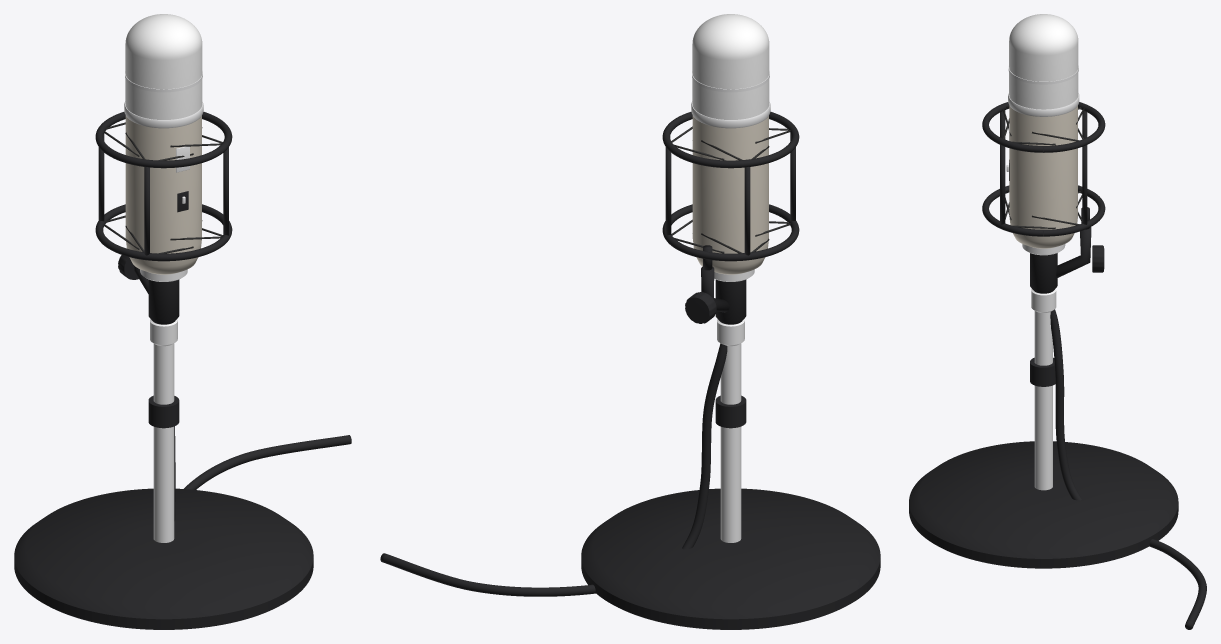
Rendered from microphone.glb.
3 views of the same model, side by side, from view 1: azimuth 30°, elevation 25°; view 2: azimuth 150°, elevation 25°; view 3: azimuth 270°, elevation 25° (orthographic). The views are drawn at different scales.
Parts seen in each view (by area): view 1: Stand_Base, Body, Grille, Stand_Pole, Cable, Ring_Top, Ring_Bottom, XLR_Plug, Pole_Clutch, Band, Post_2, Post_1 (+1 smaller); view 2: Stand_Base, Body, Grille, Stand_Pole, Cable, Ring_Top, Ring_Bottom, XLR_Plug, Pole_Clutch, Knob, Band; view 3: Stand_Base, Body, Grille, Stand_Pole, Cable, Ring_Top, Ring_Bottom, XLR_Plug, Mount_Arm, Pole_Clutch, Band, Post_0 (+1 smaller).
Boxes of the visible parts, left/top/right/bottom form: Stand_Base: left=14, top=488, right=313, bottom=629; Body: left=125, top=115, right=201, bottom=274; Grille: left=125, top=14, right=202, bottom=119; Stand_Pole: left=150, top=319, right=177, bottom=542; Cable: left=174, top=426, right=351, bottom=521; Ring_Top: left=95, top=111, right=232, bottom=168; Ring_Bottom: left=95, top=204, right=232, bottom=261; XLR_Plug: left=148, top=279, right=179, bottom=324; Pole_Clutch: left=148, top=395, right=179, bottom=428; Band: left=124, top=101, right=203, bottom=128; Post_2: left=144, top=167, right=149, bottom=255; Post_1: left=98, top=133, right=104, bottom=221; Stand_Base: left=581, top=488, right=880, bottom=629; Body: left=692, top=115, right=768, bottom=274; Grille: left=692, top=14, right=769, bottom=119; Stand_Pole: left=717, top=319, right=744, bottom=542; Cable: left=380, top=343, right=727, bottom=596; Ring_Top: left=662, top=111, right=799, bottom=168; Ring_Bottom: left=662, top=204, right=799, bottom=261; XLR_Plug: left=715, top=279, right=746, bottom=324; Pole_Clutch: left=715, top=395, right=746, bottom=428; Knob: left=685, top=292, right=716, bottom=323; Band: left=691, top=101, right=770, bottom=128; Stand_Base: left=909, top=441, right=1178, bottom=568; Body: left=1009, top=105, right=1077, bottom=248; Grille: left=1009, top=14, right=1078, bottom=109; Stand_Pole: left=1031, top=288, right=1056, bottom=490; Cable: left=1050, top=309, right=1206, bottom=629; Ring_Top: left=982, top=102, right=1105, bottom=152; Ring_Bottom: left=982, top=185, right=1105, bottom=236; XLR_Plug: left=1030, top=253, right=1057, bottom=293; Mount_Arm: left=1056, top=227, right=1091, bottom=277; Pole_Clutch: left=1030, top=357, right=1055, bottom=386; Band: left=1008, top=93, right=1079, bottom=116; Post_0: left=1082, top=145, right=1087, bottom=224.
Size of the model in its own units: 31.25 by 41.33 by 22.55.
